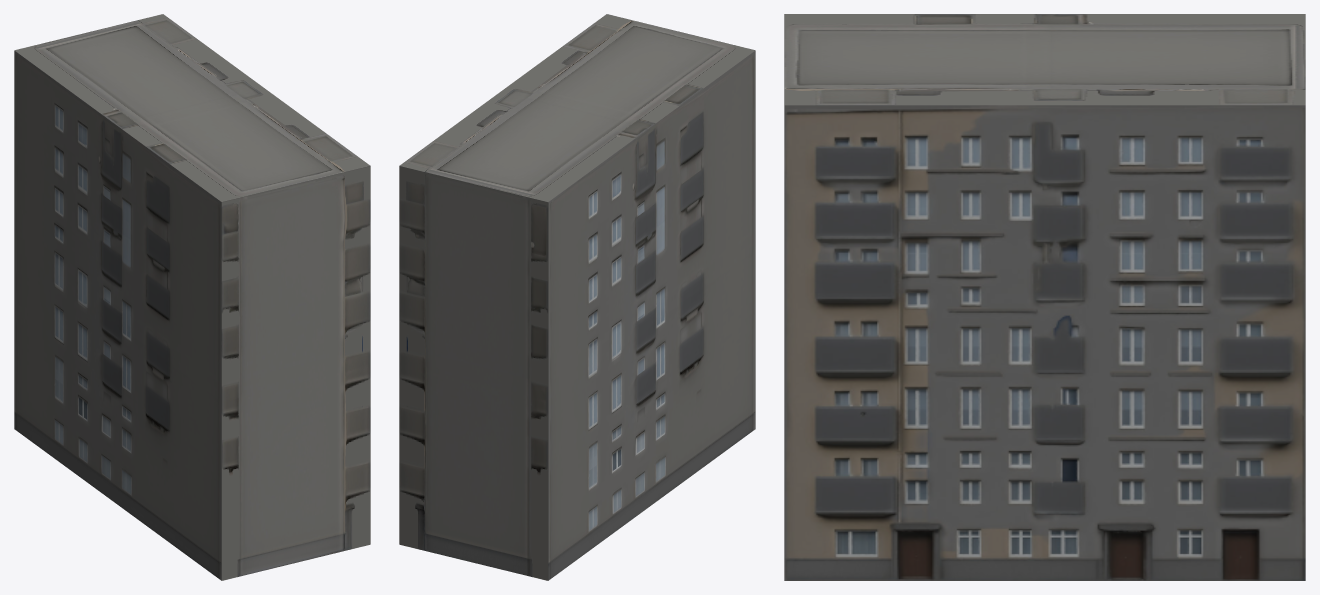
The model's file is immeuble.glb.
3 renders of one model, left to right at view 1: azimuth 30°, elevation 25°; view 2: azimuth 150°, elevation 25°; view 3: azimuth 270°, elevation 25°, orthographic. The views are drawn at different scales.
Parts seen in each view (by area): view 1: immeuble; view 2: immeuble; view 3: immeuble.
Boxes of the visible parts, <box> form: immeuble: <box>14,14,370,580</box>; immeuble: <box>399,14,755,580</box>; immeuble: <box>784,14,1305,580</box>.
Bounding box in the file's own units: 0.4116 × 1 × 0.9934.
1 material, 1 textured.
